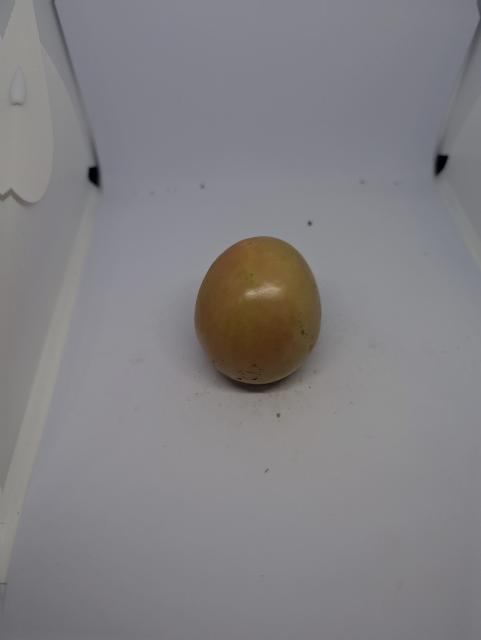turning: (186, 234, 353, 393)
